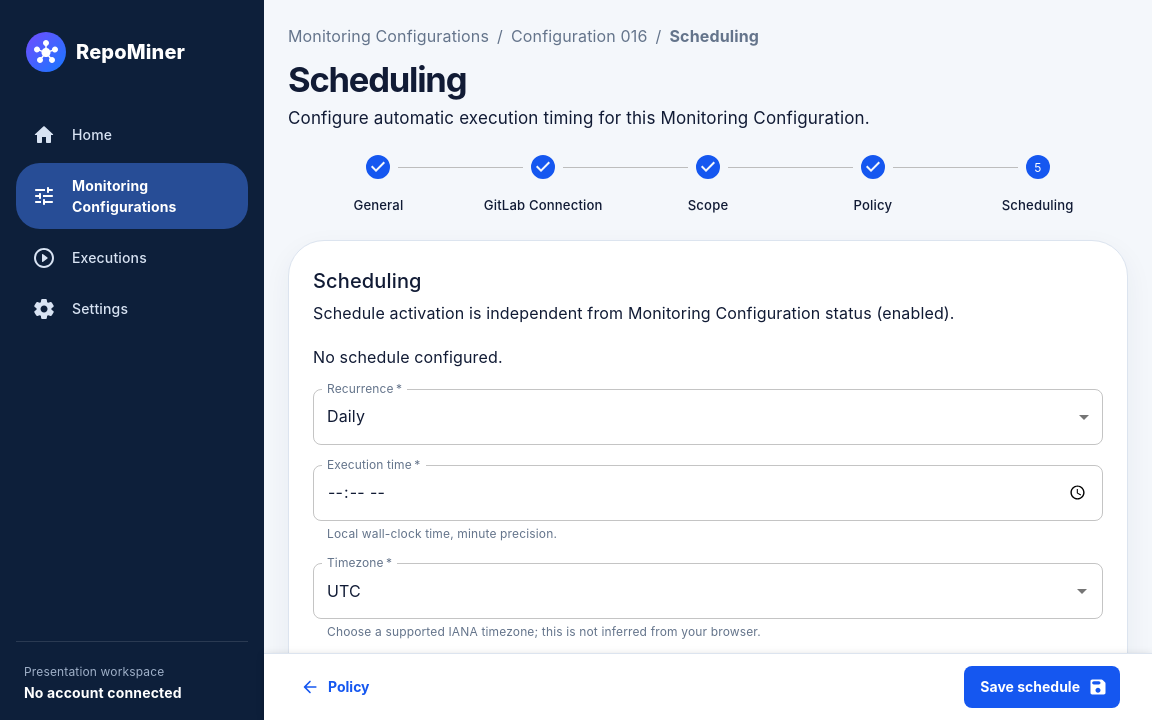
Scenario: stays on Scheduling and retains the draft when the final save fails
expect the dropdown named "Recurrence" is shown: met, box [327,406,365,426]
Type "01:00" into the time field labelled "Execution time *". click: (708, 493)
box: [313,465,1103,521]
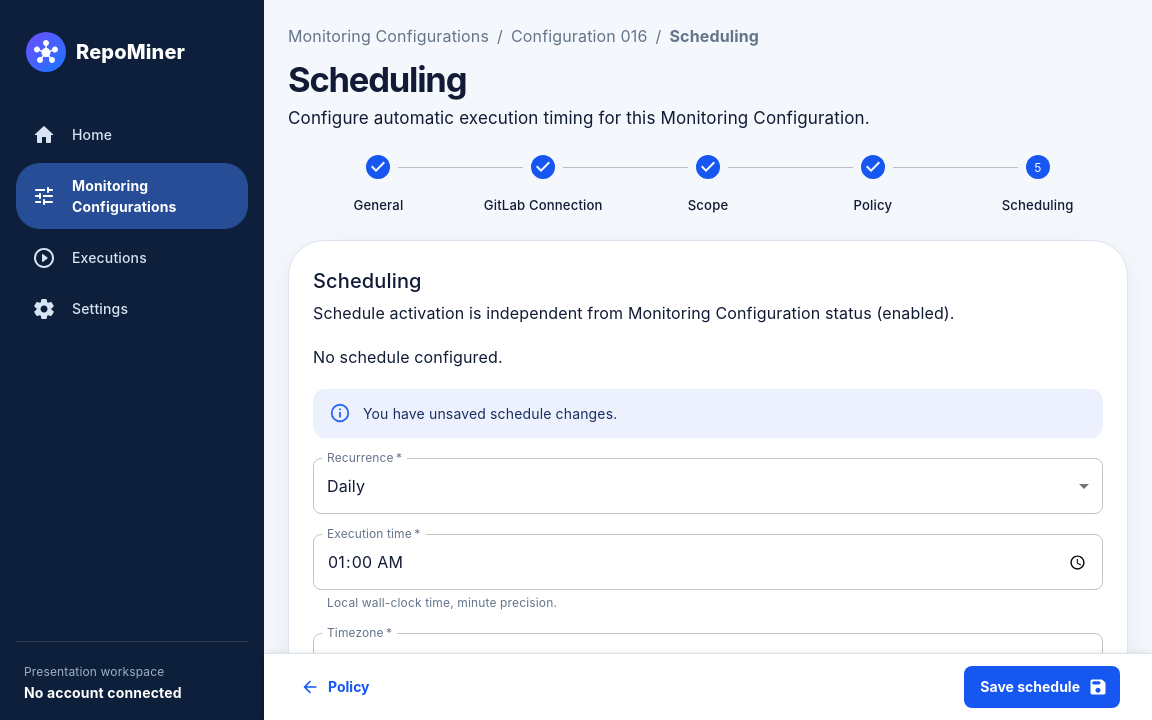
Click the button "Save schedule". click: (1042, 687)
box: [964,666,1120,708]
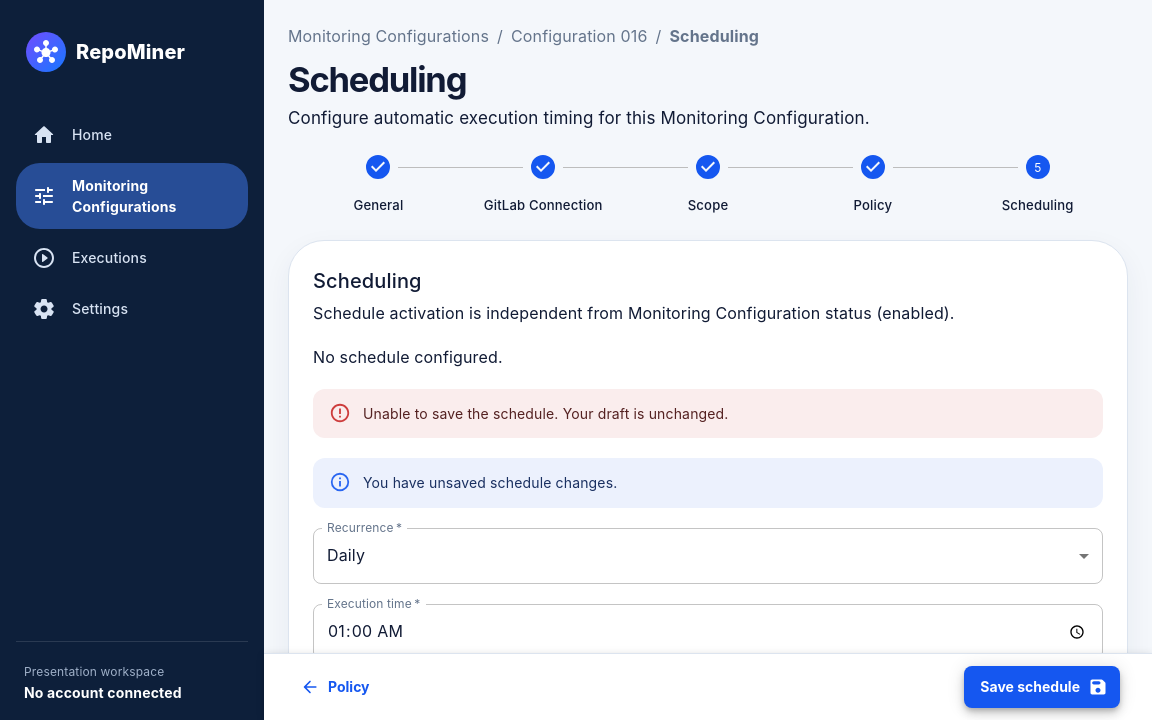
expect the message "Unable to save the schedule. Your draft is unchanged." is shown: met, box [313,389,1103,438]
